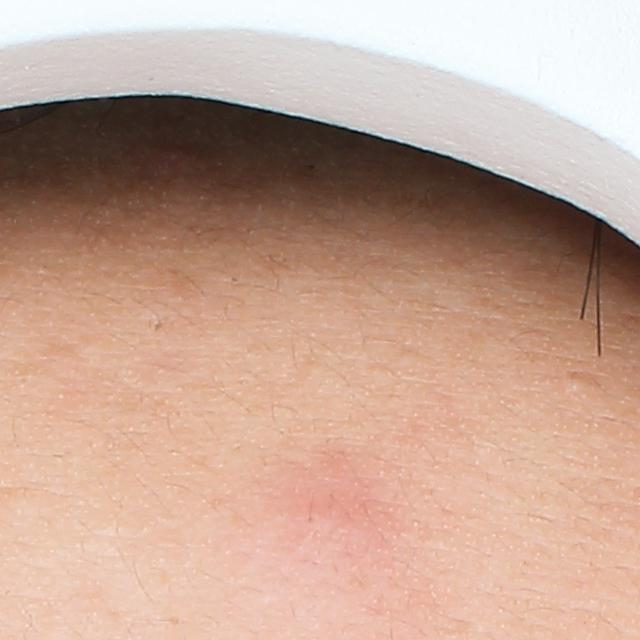comedo: (561, 371, 595, 402)
